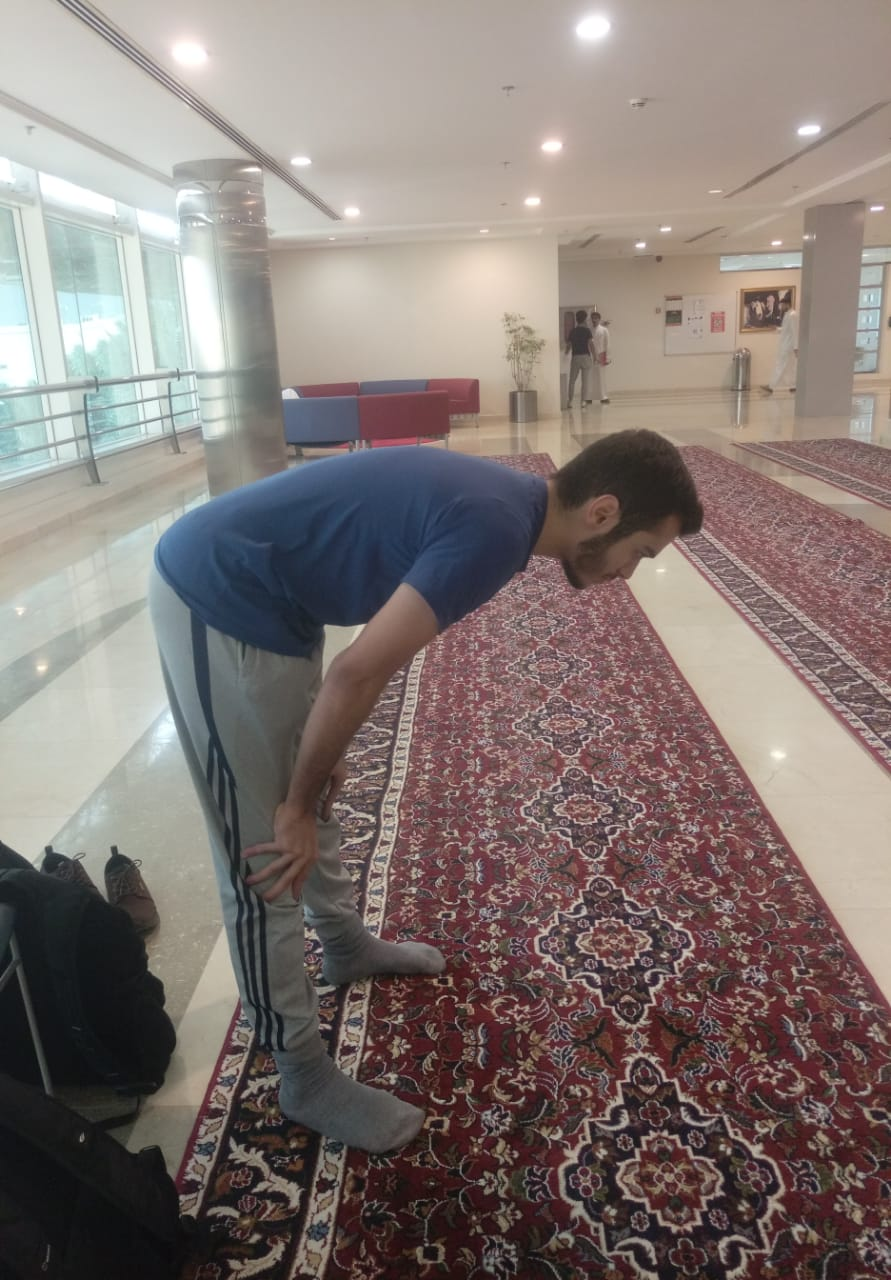ruku: (39, 367, 744, 1087)
